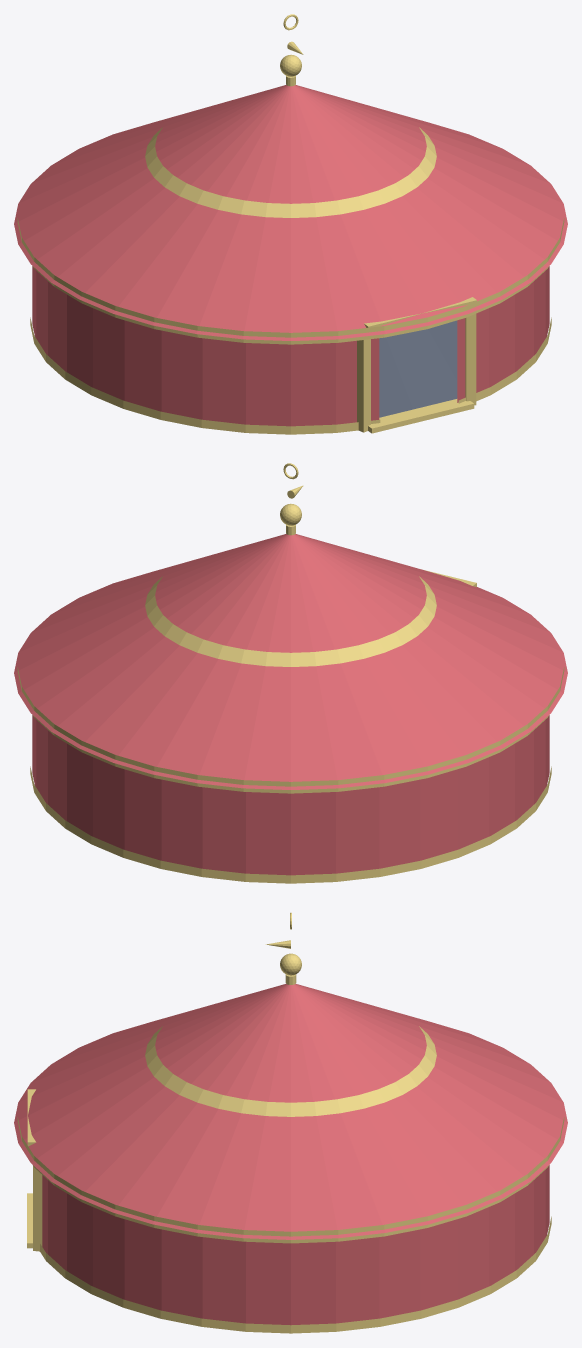
File: otag.glb
3 renders of one model, top to bottom at view 1: azimuth 30°, elevation 25°; view 2: azimuth 150°, elevation 25°; view 3: azimuth 270°, elevation 25°, orthographic.
Parts seen in each view (by area): view 1: Body, Interior, DoorFrame, Alem; view 2: Body, Alem; view 3: Body, DoorFrame, Alem.
Part boxes in pixels (x1,y1,x2,y2): Body: [14, 85, 567, 434]; Interior: [379, 320, 457, 417]; DoorFrame: [357, 297, 476, 433]; Alem: [280, 14, 303, 86]; Body: [14, 534, 567, 883]; Alem: [280, 463, 303, 535]; Body: [14, 984, 567, 1333]; DoorFrame: [27, 1089, 42, 1251]; Alem: [265, 912, 301, 984].
Size of the model in its own units: 15 by 9.27 by 15.
